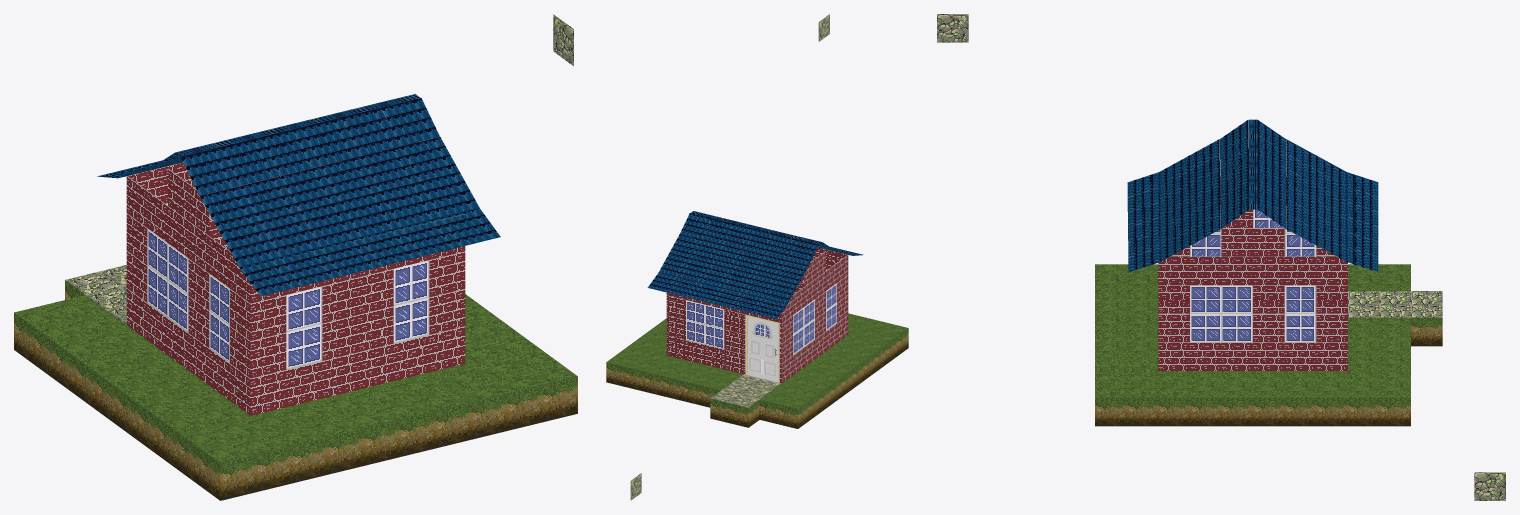
File: sprytilebrickhouse.glb
The picture shows the model from 3 angles, left to right: view 1: azimuth 30°, elevation 25°; view 2: azimuth 150°, elevation 25°; view 3: azimuth 270°, elevation 25°; orthographic projection. The views are drawn at different scales.
Parts seen in each view (by area): view 1: Cube; view 2: Cube; view 3: Cube.
Part boxes in pixels (box(x1,y1,x2,y2)): Cube: box(14, 14, 577, 500); Cube: box(606, 14, 908, 500); Cube: box(937, 14, 1505, 500).
Bounding box in the file's own units: 10 × 17 × 18.
Materials: 1 (1 with a texture image).
